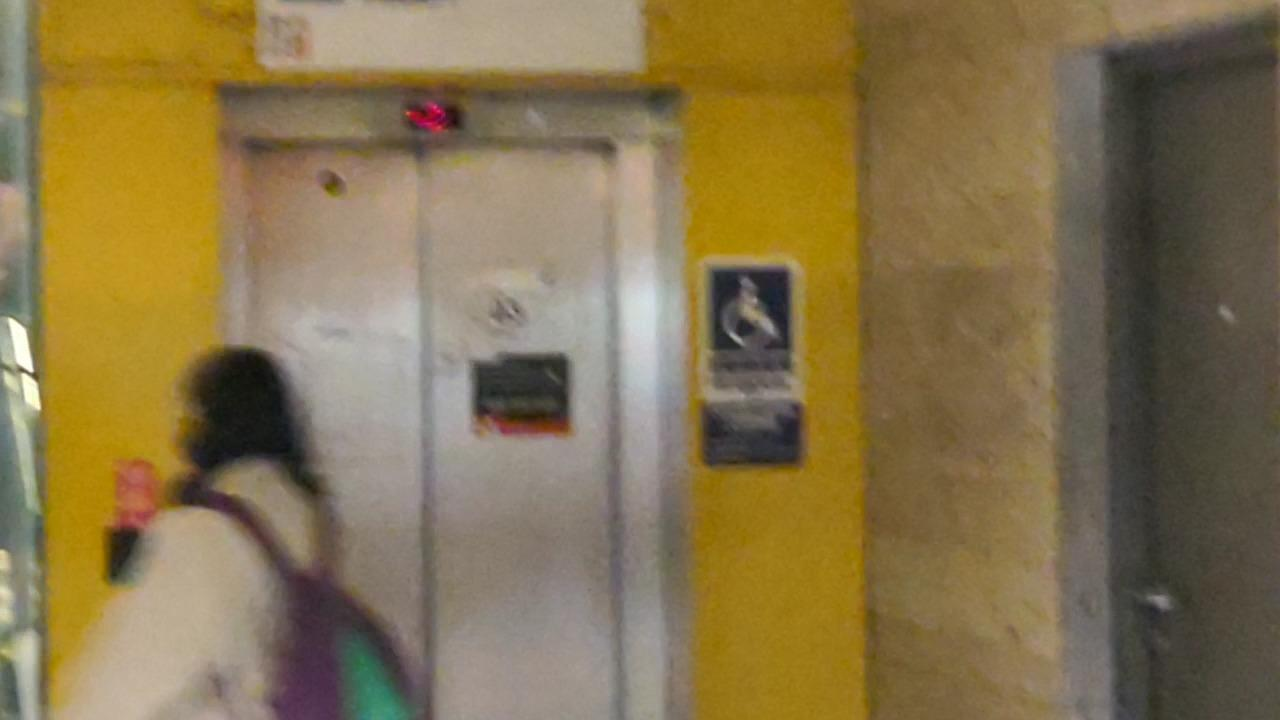handicapped symbol: (719, 278, 783, 349)
